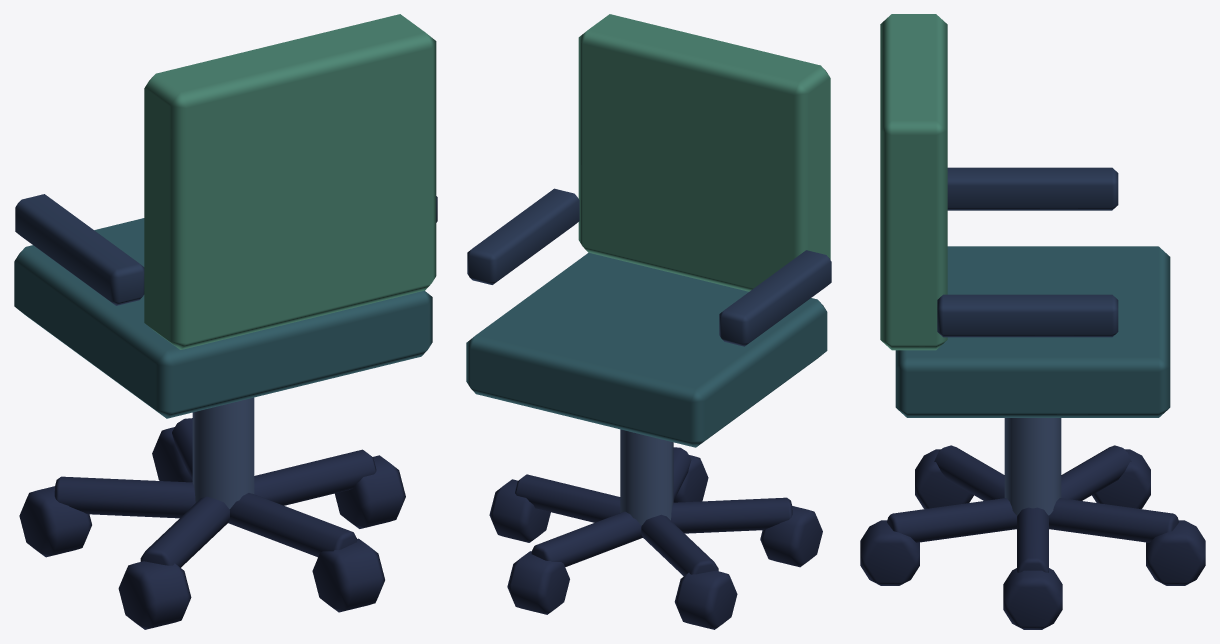
File: chair.glb
3 renders of one model, left to right at view 1: azimuth 30°, elevation 25°; view 2: azimuth 150°, elevation 25°; view 3: azimuth 270°, elevation 25°, orthographic. The views are drawn at different scales.
Visible parts, largest first — view 1: chair; view 2: chair; view 3: chair.
Boxes of the visible parts, x1,y1,x2,y2 form: chair: (14, 14, 437, 629); chair: (466, 14, 831, 629); chair: (860, 14, 1205, 629).
Size of the model in its own units: 0.66 by 1.05 by 0.6663.
